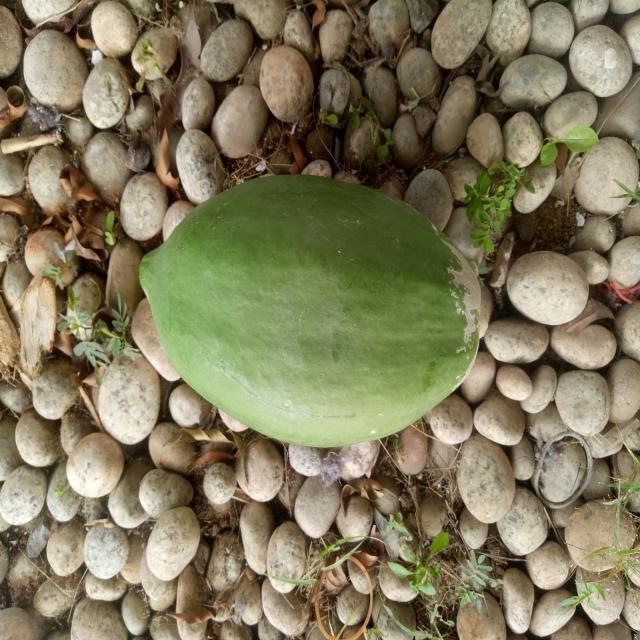Pepaya unrippen: (134, 171, 484, 438)
